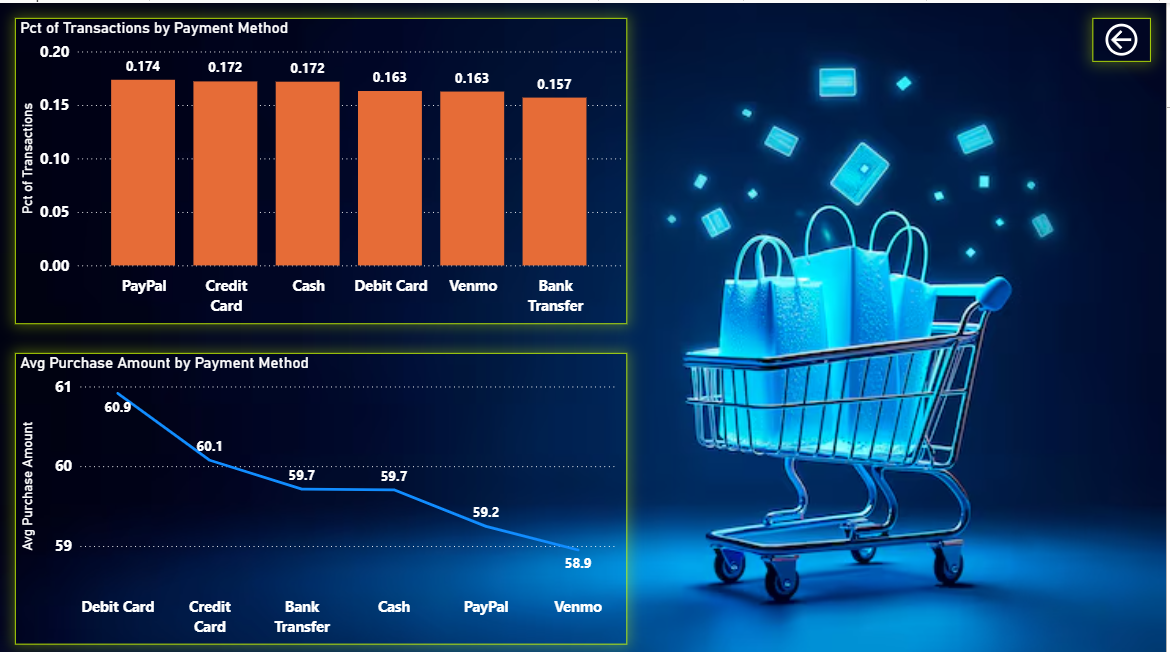

What the dashboard file says about the page in this screenshot:
{"tool":"powerbi","page":{"name":"Q17 – Payment method usage & spend","canvas":[1280,720],"ordinal":17},"visuals":[{"type":"columnChart","fields":{"Category":["customer.Payment Method"],"Y":["measure.Pct of Transactions"]},"box":[32,96,560,512],"z":0},{"type":"lineChart","fields":{"Category":["customer.Payment Method"],"Y":["measure.Avg Purchase Amount"]},"box":[640,96,592,512],"z":1000}]}

Visuals, with their boxes in screenshot pixels (x1, y1, x2, y2), scaled from the page's 1280x720 canvas onto the 1170x652 screenshot:
columnChart - customer.Payment Method x measure.Pct of Transactions: [x1=29, y1=87, x2=541, y2=551]
lineChart - customer.Payment Method x measure.Avg Purchase Amount: [x1=585, y1=87, x2=1126, y2=551]
